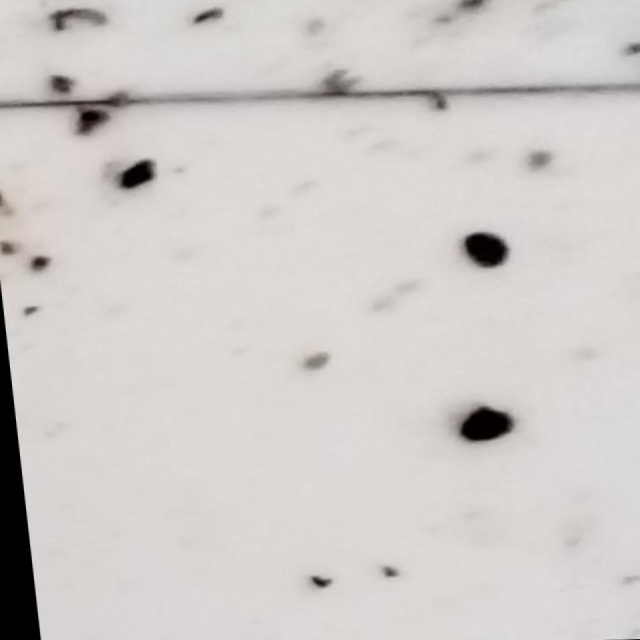varroa: (447, 404, 507, 447), (456, 231, 509, 271)
